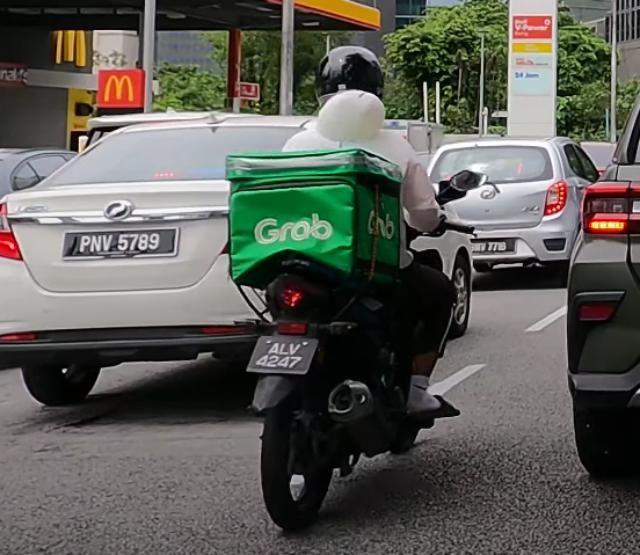License_Plate: (246, 336, 319, 377)
motorcycle: (231, 167, 486, 532)
